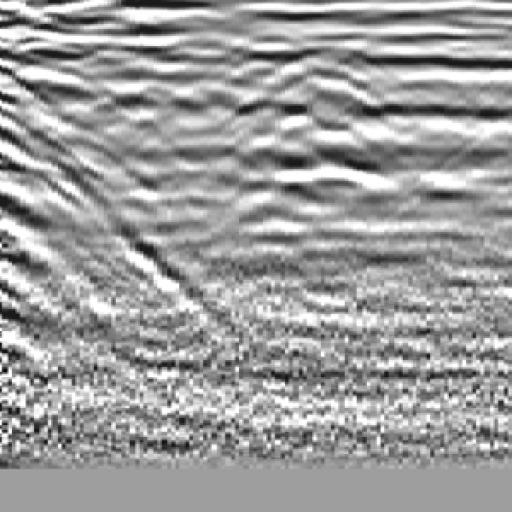metalic: (240, 27, 416, 272)
nonmetalic: (1, 28, 110, 279)
